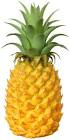Pineapple: (2, 1, 65, 138)
